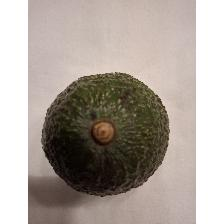Avocado: (40, 68, 172, 198)
